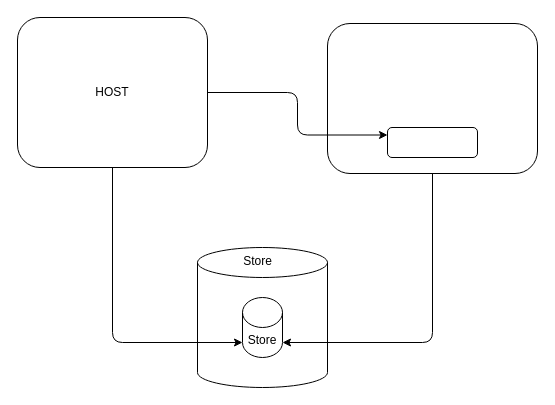
This 555x405 diagram has some shape labels left out. Each missing label, with the box of its shape:
Headre: (386, 126, 478, 158)
NAV: (326, 22, 538, 174)
